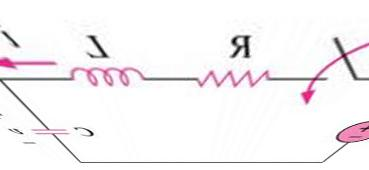resistor: (185, 61, 275, 96)
